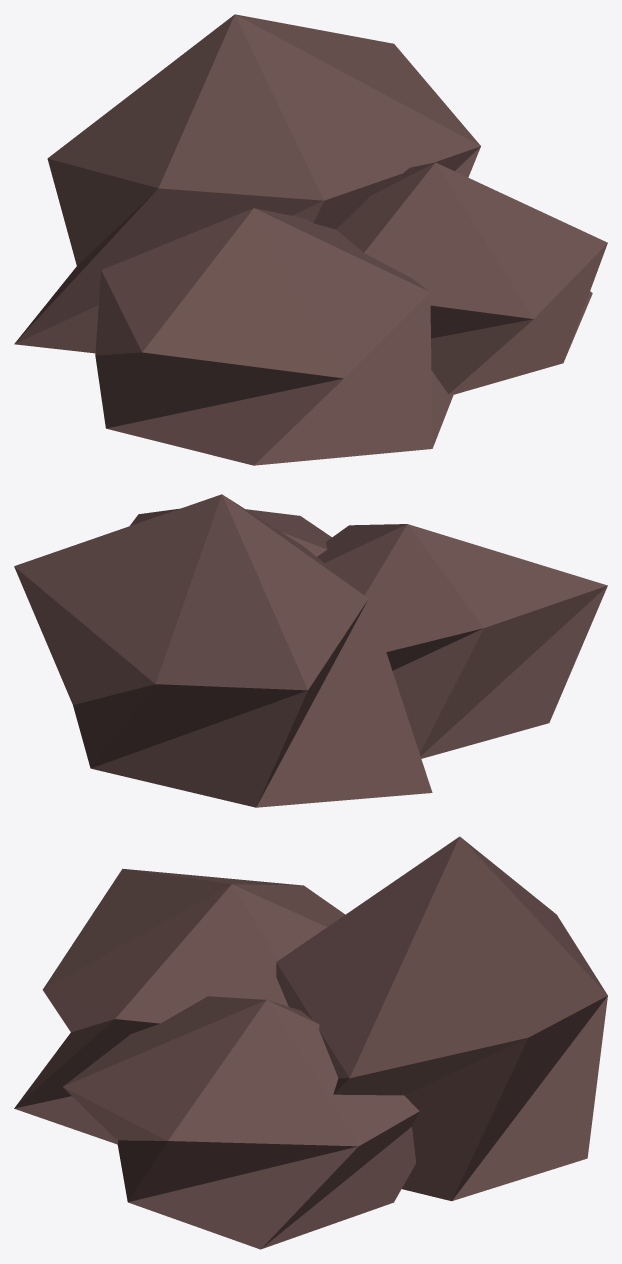
The model's file is item_rm_bioferrite_c.obj.
The picture shows the model from 3 angles, top to bottom: view 1: azimuth 30°, elevation 25°; view 2: azimuth 150°, elevation 25°; view 3: azimuth 270°, elevation 25°; orthographic projection. The views are drawn at different scales.
Bounding box in the file's own units: 0.8947 × 0.45 × 0.861.
